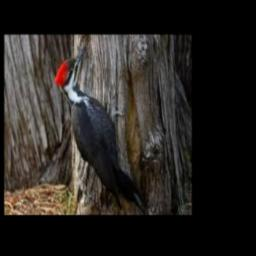Woodpecker: (53, 43, 145, 213)
